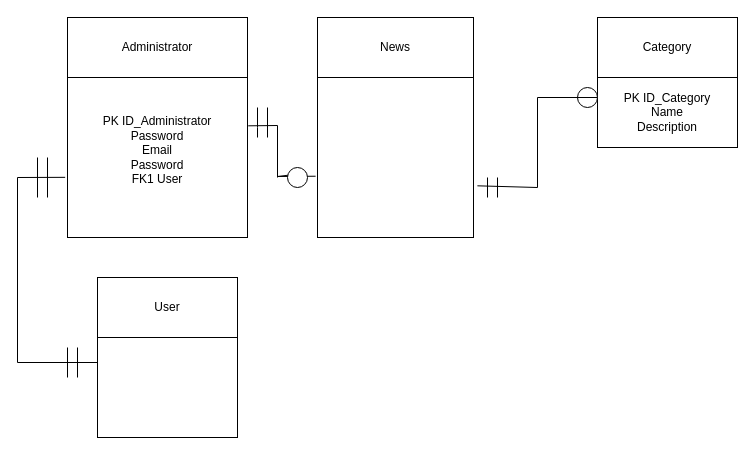
Image size: 755x455. Some labels were removed from this diagram. The shapes that lost their labels are listed below. From the top down, each one's centre as x and y in pixels, then its label:
At pixel 395 157: "PK ID_News Title Content Publication Date FK1 Administrator FK2 Category".
At pixel 167 387: "PK ID_User Email Password Date of Register".
